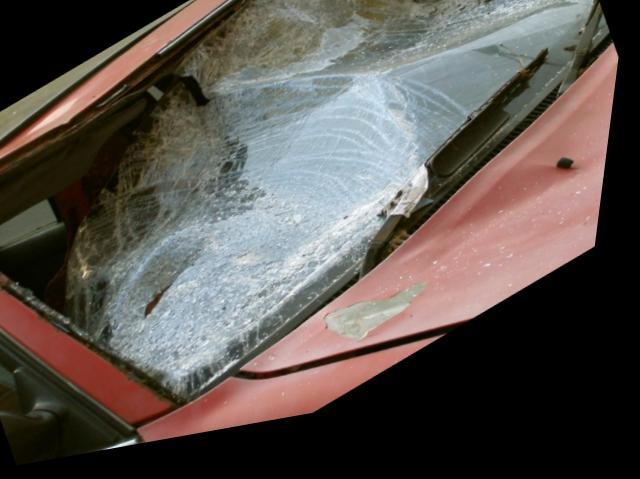dent: (285, 70, 623, 369), (0, 100, 81, 154)
glass shatter: (0, 0, 608, 411)
